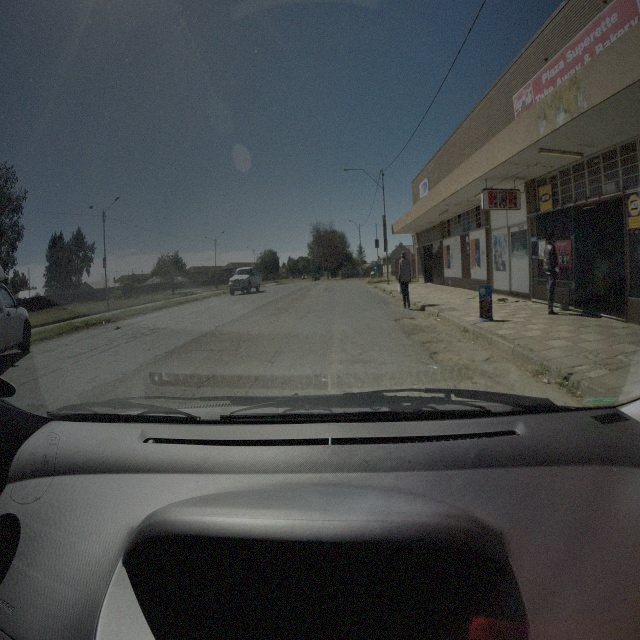pothole: (428, 349, 462, 370), (394, 316, 414, 325), (422, 338, 440, 348)
